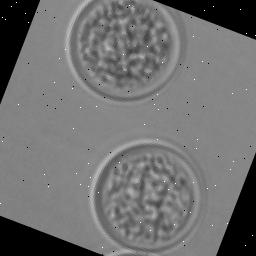picoshell: (88, 139, 205, 254), (64, 0, 184, 105)
